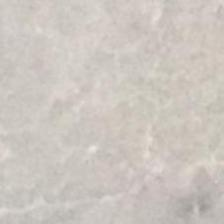Non_Crack: (10, 10, 224, 224)
